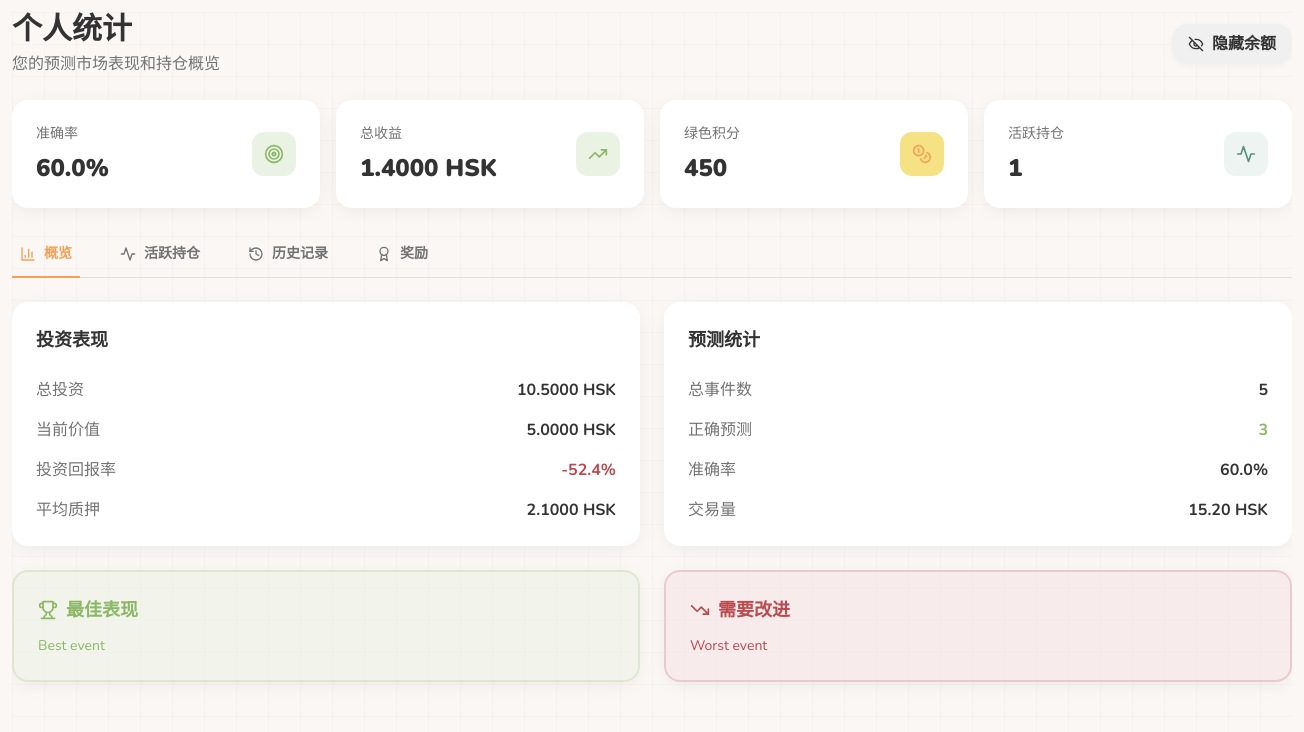
UserStats › toggles balance visibility
This screenshot has width=1304, height=732.
Expected: the text "1.4000 HSK" is shown, [360,152,497,184]
// Click hide balances button
Click the button "隐藏余额".
click(1232, 44)  # box [1172,24,1292,64]
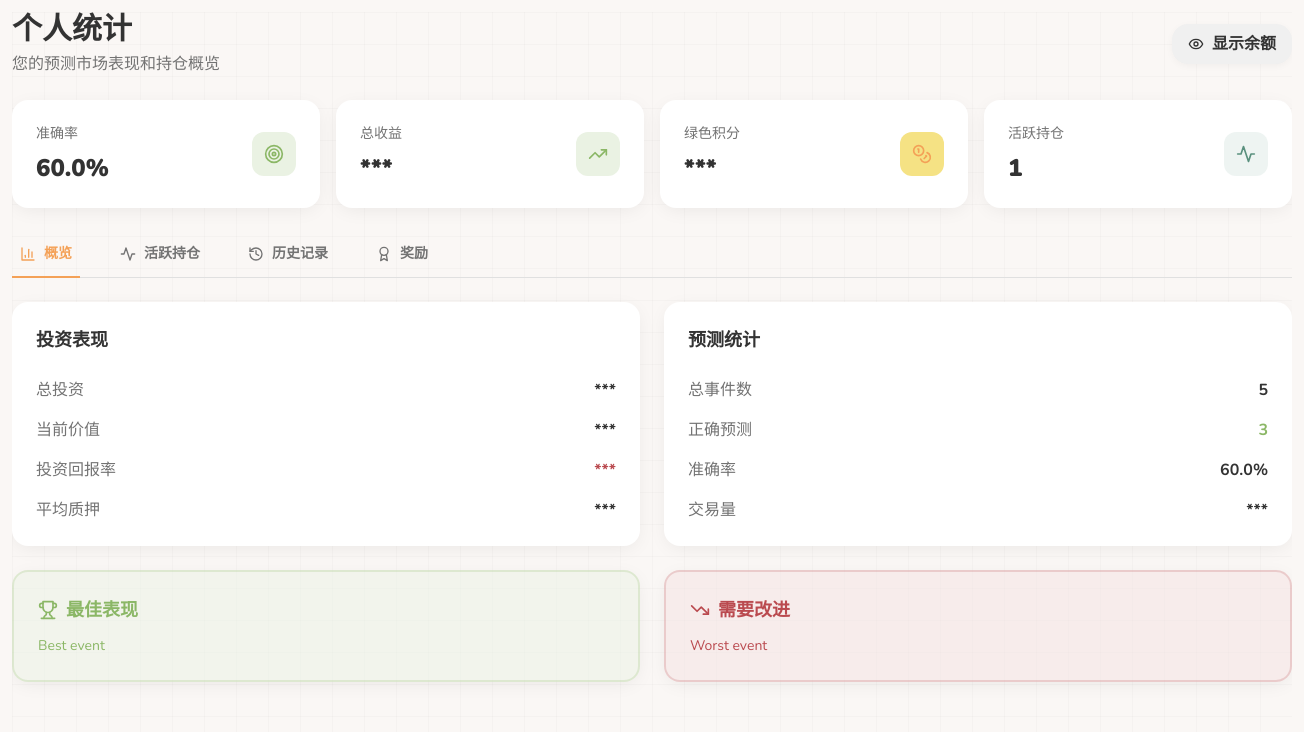
// Click show balances button
Click the button "显示余额".
click(1232, 44)  # box [1172,24,1292,64]
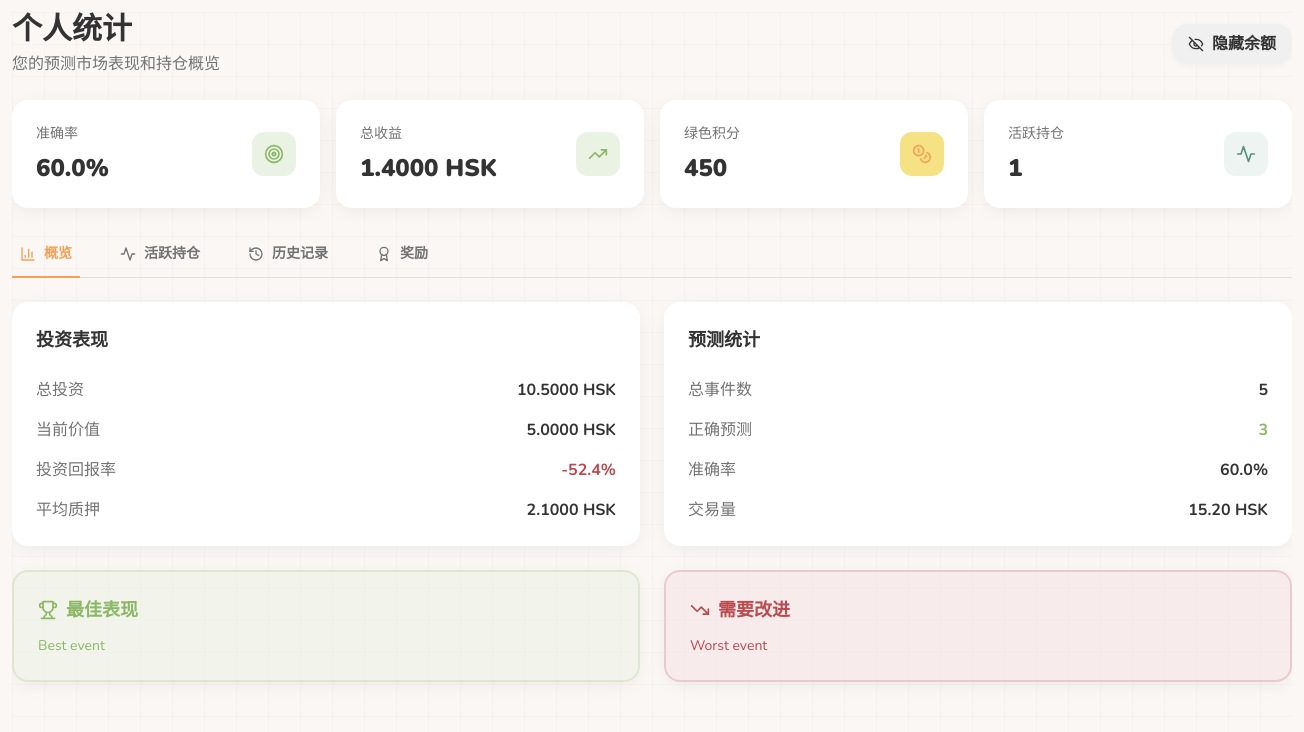
Result: the text "1.4000 HSK" is shown at [360,152,497,184]
